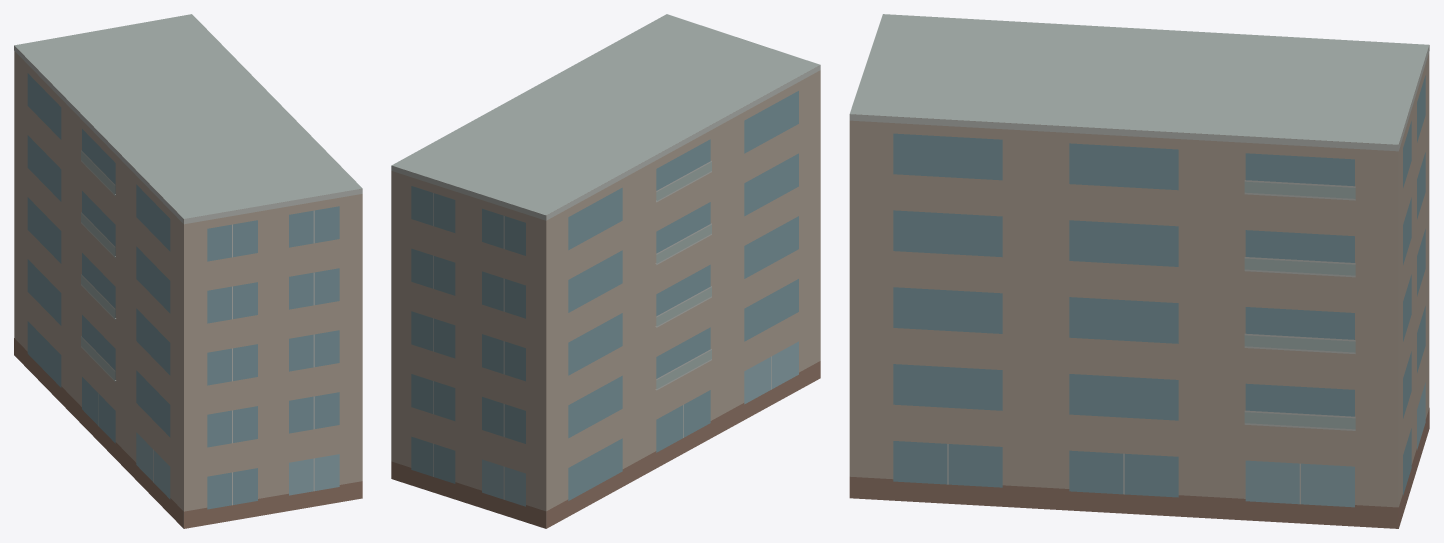
The model's file is survey-upis-32571853.glb.
3 views of the same model, side by side, from view 1: azimuth 30°, elevation 25°; view 2: azimuth 150°, elevation 25°; view 3: azimuth 270°, elevation 25° (orthographic). The views are drawn at different scales.
Visible parts, largest first — view 1: survey-upis-32571853.tmp; view 2: survey-upis-32571853.tmp; view 3: survey-upis-32571853.tmp.
Part boxes in pixels (x1=…): survey-upis-32571853.tmp: x1=14, y1=14, x2=362, y2=528; survey-upis-32571853.tmp: x1=391, y1=14, x2=820, y2=528; survey-upis-32571853.tmp: x1=849, y1=14, x2=1429, y2=528.
Bounding box in the file's own units: 10.49 × 14.35 × 19.64.
